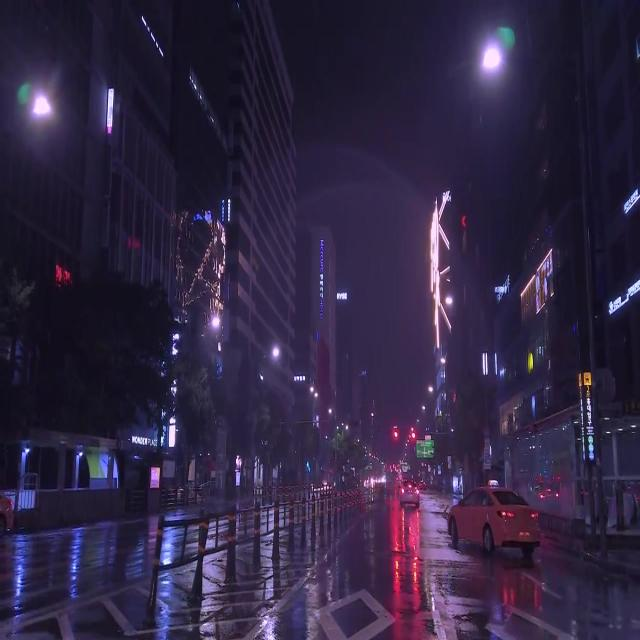Car: (448, 489, 537, 554)
